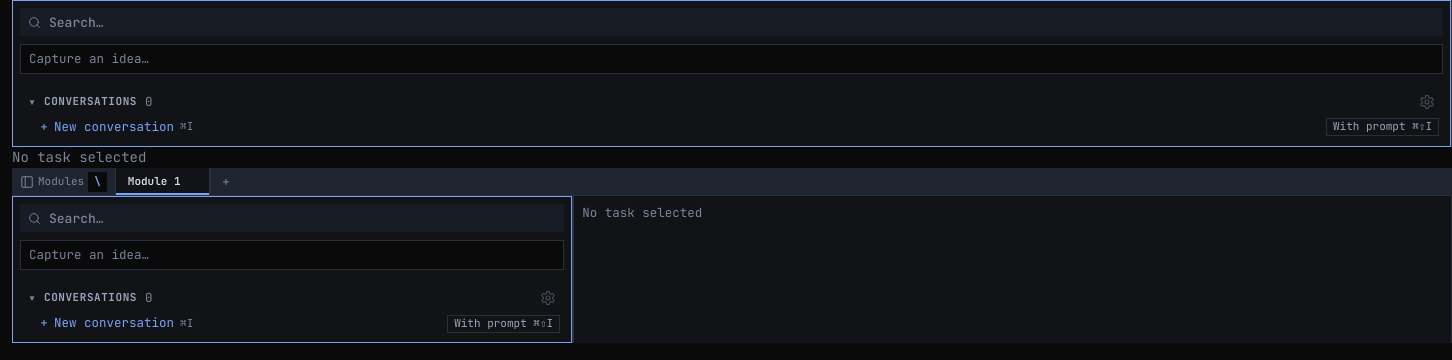
Test: idea-entry draft acceptance › [overhaul-361] preserves a missing-folder module's draft when the Modules pane opens and closes
Type "Plan a simple welcome page" into the 2nd text box labelled "Capture an idea" at (292, 255), box left=21, top=241, right=563, bottom=269
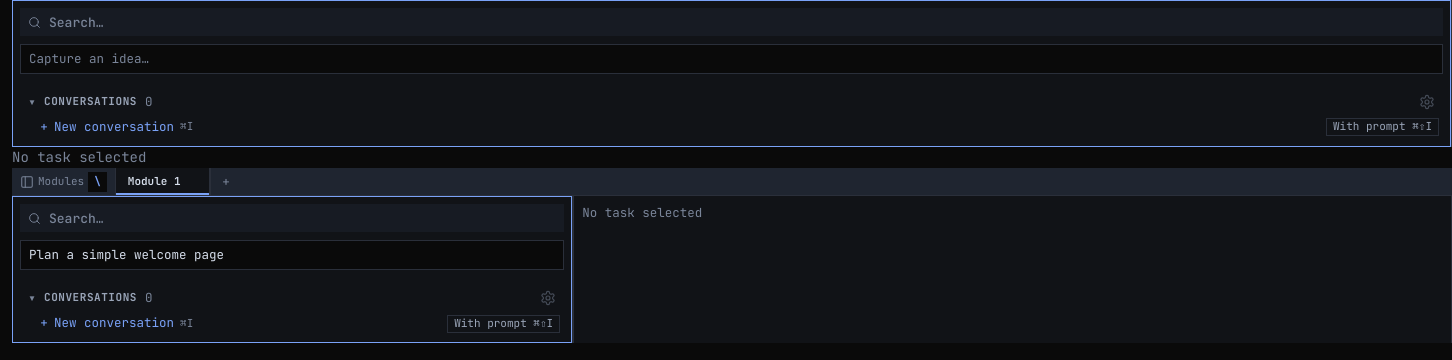
Click the button with aria-label "Open Modules pane" at (64, 182), box left=12, top=168, right=116, bottom=195
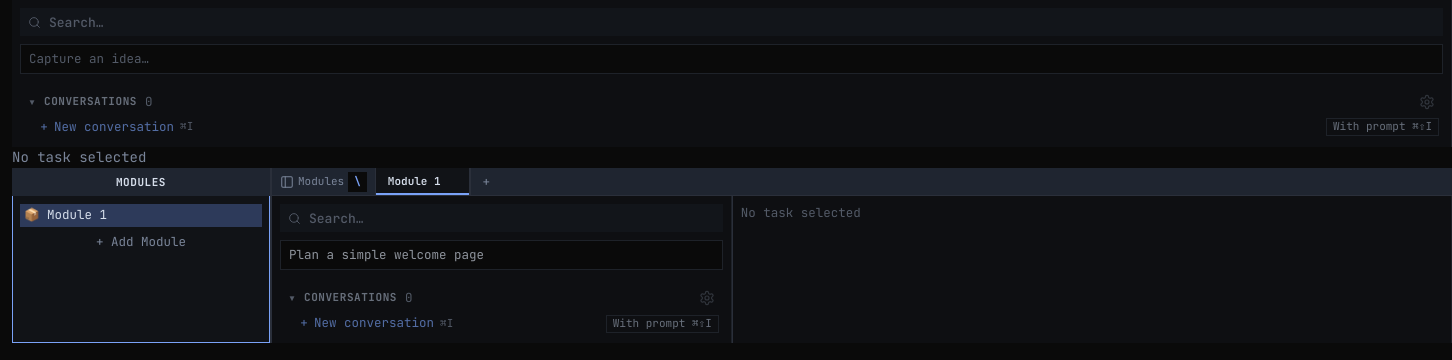
Replace the text in the text box named "Capture an idea" with "Draft should survive pane toggle" at (501, 255), box left=281, top=241, right=722, bottom=269
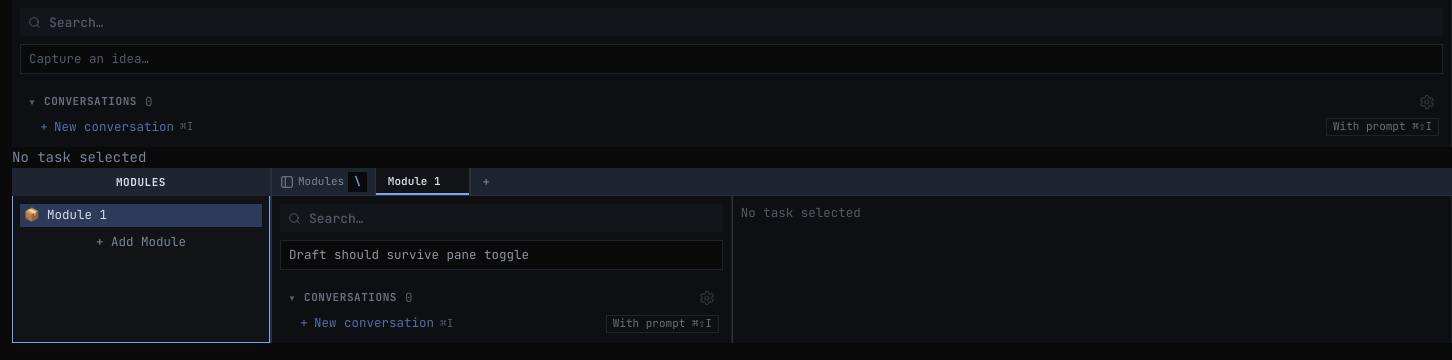
Click the button with aria-label "Close Modules pane" at (324, 182), box left=272, top=168, right=376, bottom=195
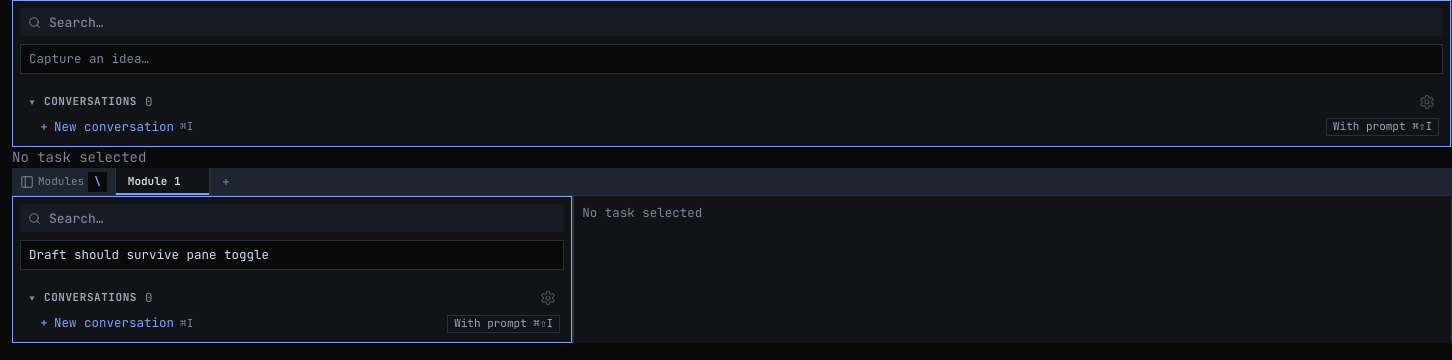
Expected: the button with aria-label "Open Modules pane" is collapsed, left=12, top=168, right=116, bottom=195
